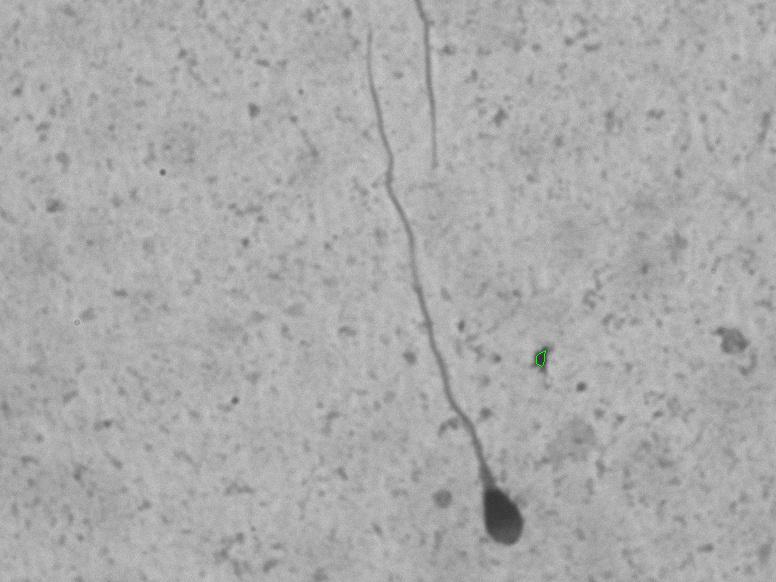Normal: (333, 30, 533, 560)
